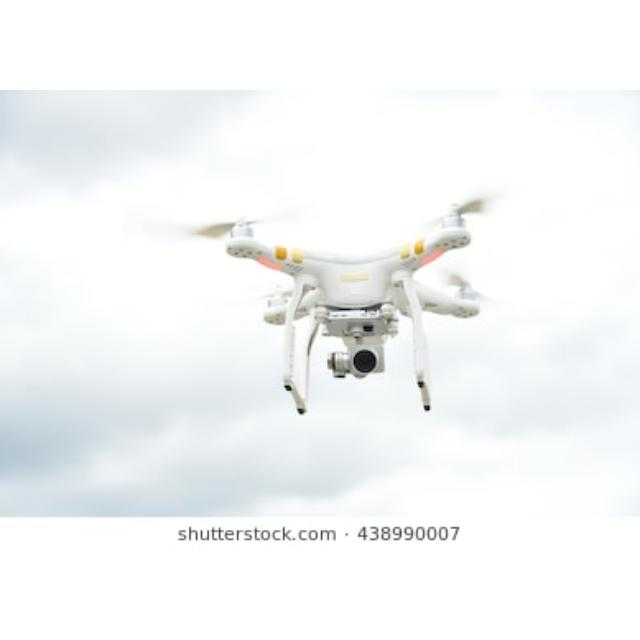Drones: (205, 201, 491, 417)
